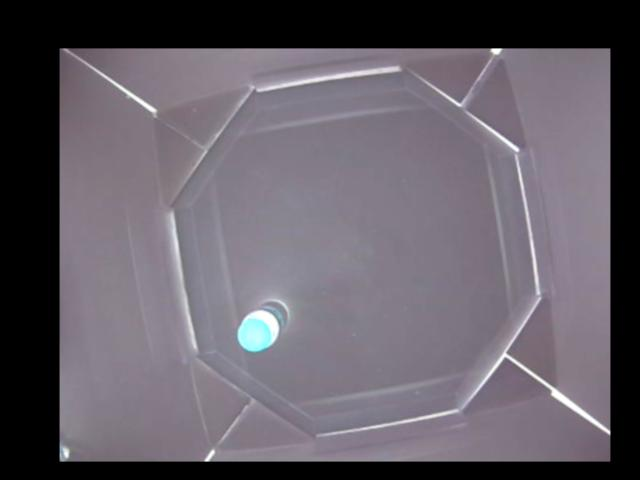Medicine: (238, 302, 289, 351)
